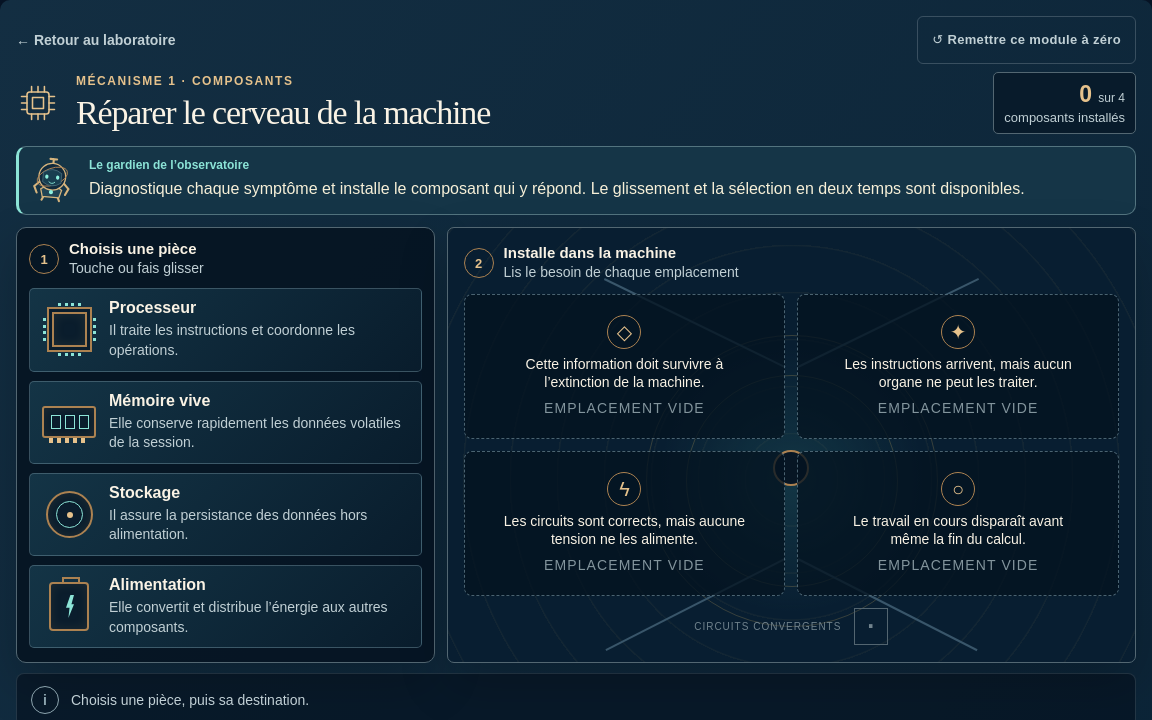
Test: mission numérique Composants › refuse une destination incorrecte et explique l’erreur
The width and height of the screenshot is (1152, 720).
Click the button "Mémoire vive".
click(225, 422)  # box [29, 381, 422, 464]
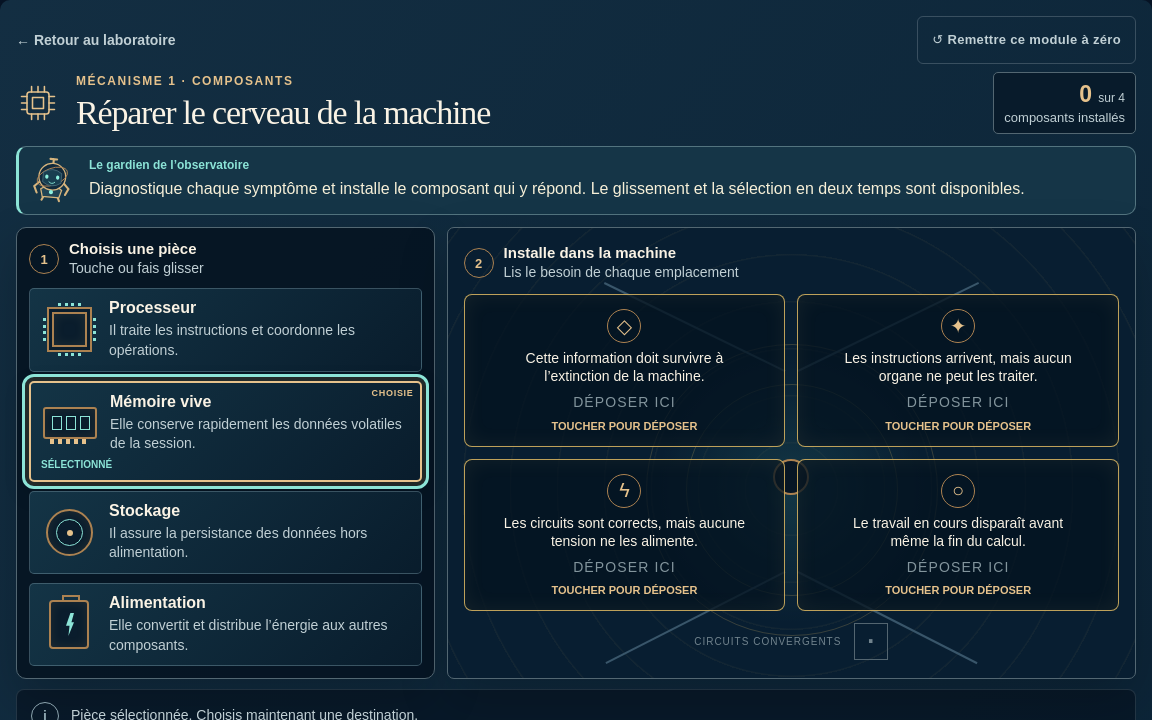
Click the button "aucune tension".
click(624, 535)  # box [464, 459, 785, 611]
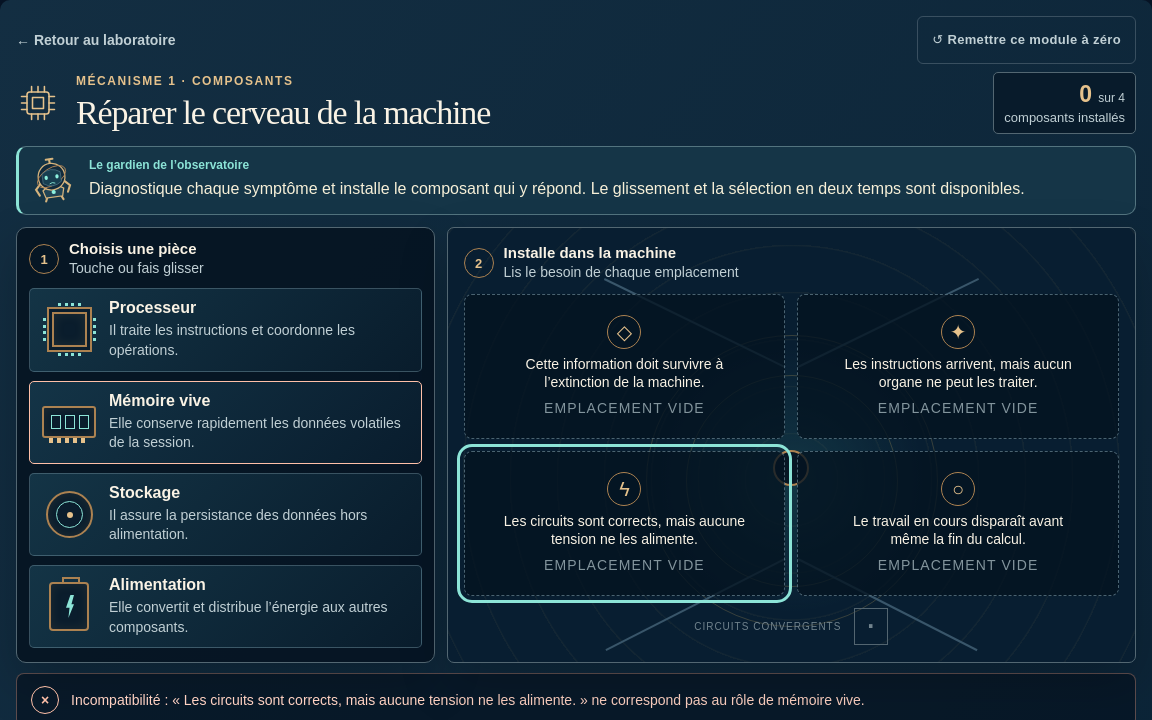
Expected: the button "Mémoire vive" is shown, [29, 381, 422, 464]
Now the text "Incompatibilité" is shown, box [71, 692, 865, 708]
